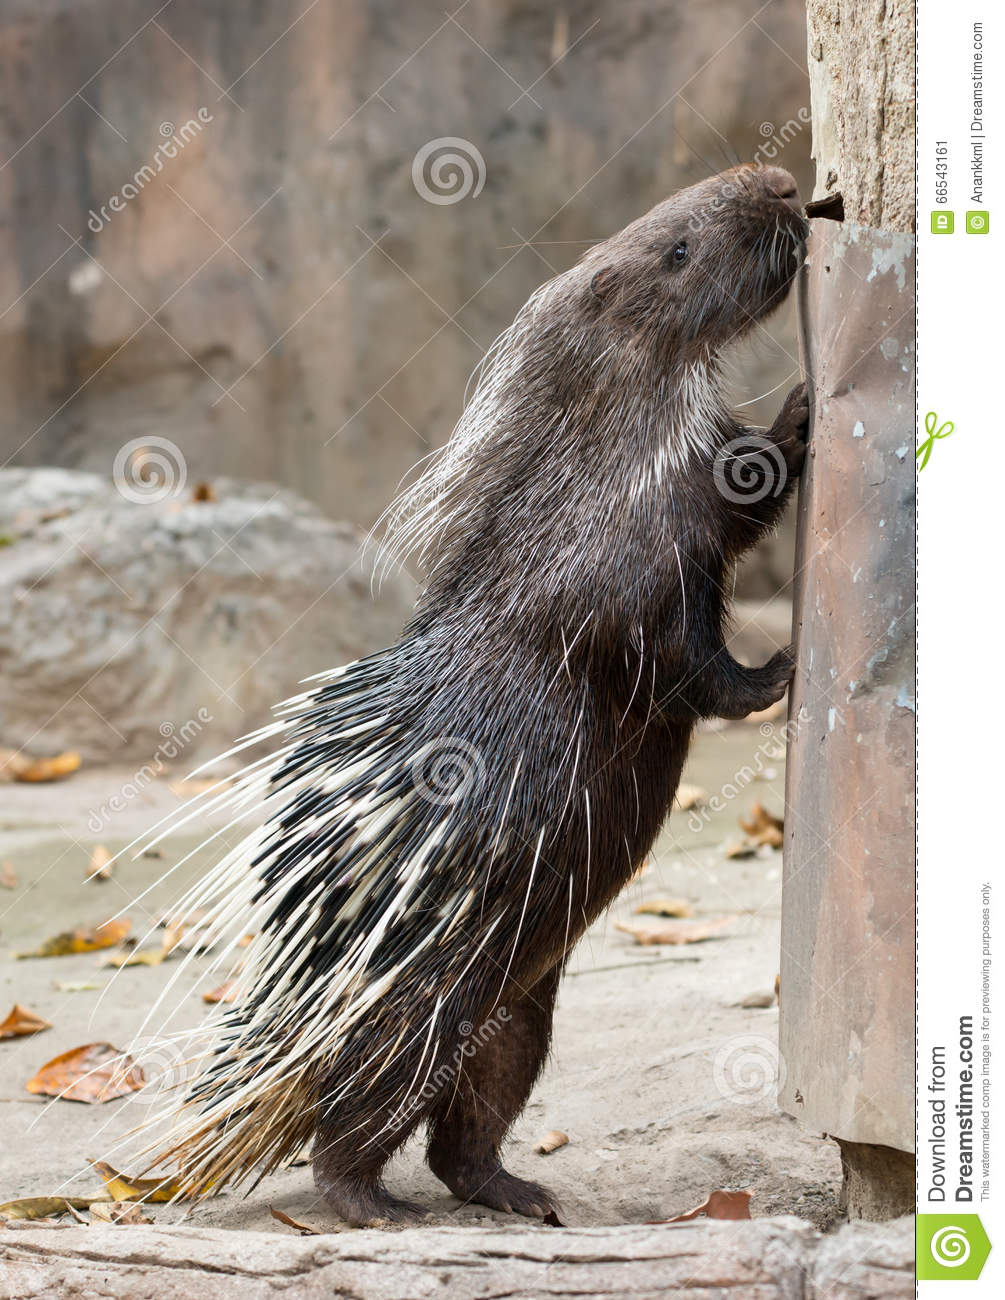porcupine: (205, 145, 828, 1226)
